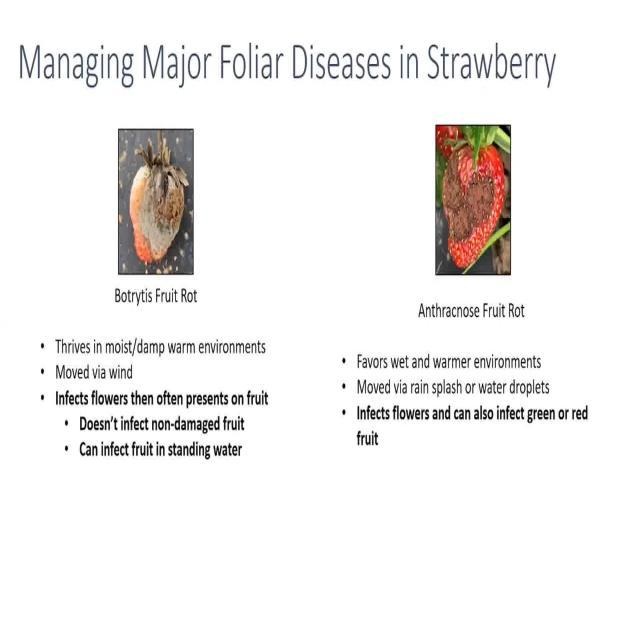Mancha negra Antracnosis: (436, 138, 504, 275)
Moho gris: (124, 140, 184, 263)
